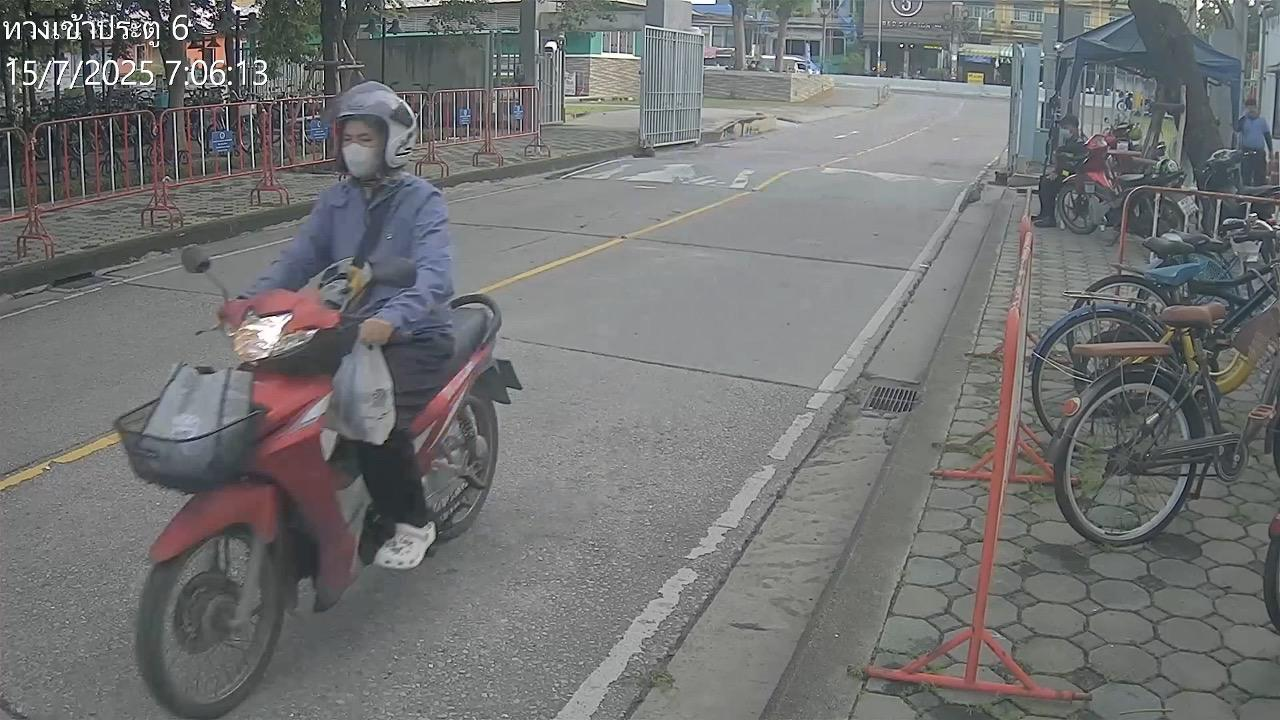With-Helmet: (327, 82, 419, 170)
